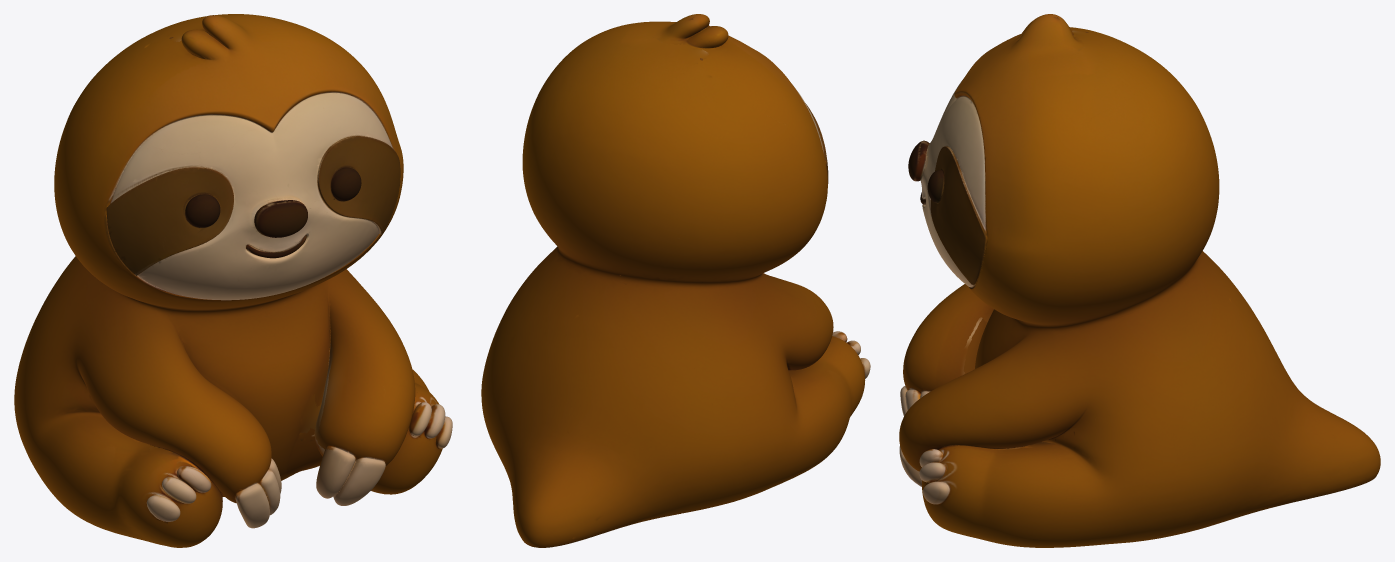
Rendered from sloth-pixabay-4187.glb.
3 views of the same model, side by side, from view 1: azimuth 30°, elevation 25°; view 2: azimuth 150°, elevation 25°; view 3: azimuth 270°, elevation 25° (orthographic). The views are drawn at different scales.
Visible parts, largest first — view 1: texture_pbr_v128; view 2: texture_pbr_v128; view 3: texture_pbr_v128.
Part boxes in pixels (x1,y1,x2,y2): texture_pbr_v128: [14, 14, 452, 547]; texture_pbr_v128: [481, 14, 870, 547]; texture_pbr_v128: [899, 14, 1380, 547].
Size of the model in its own units: 0.681 by 0.8714 by 0.8398.
1 material, 1 textured.
